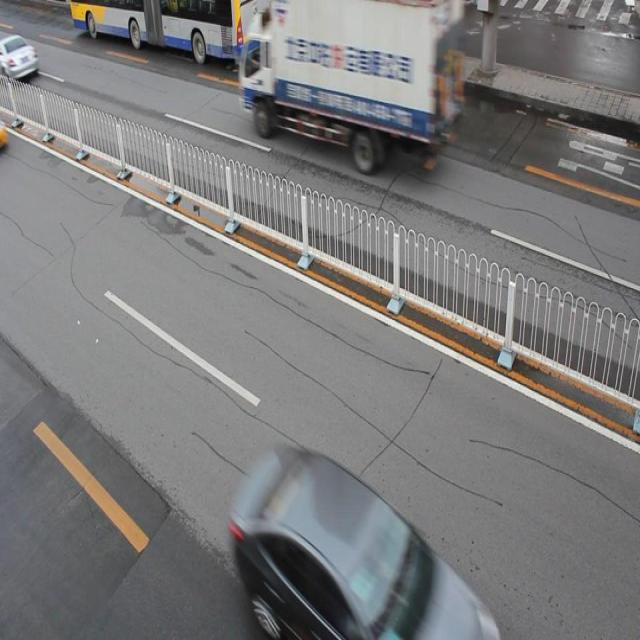bus: (238, 1, 461, 151)
car: (231, 447, 501, 640), (1, 32, 39, 84)
van: (70, 1, 272, 59)
